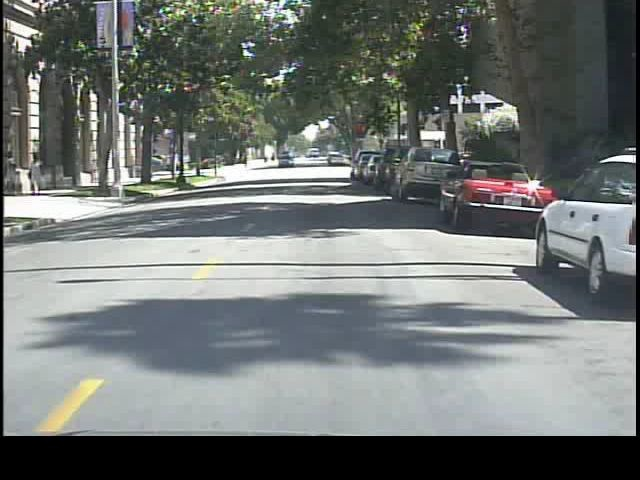person: (23, 152, 50, 196), (4, 148, 24, 196)
